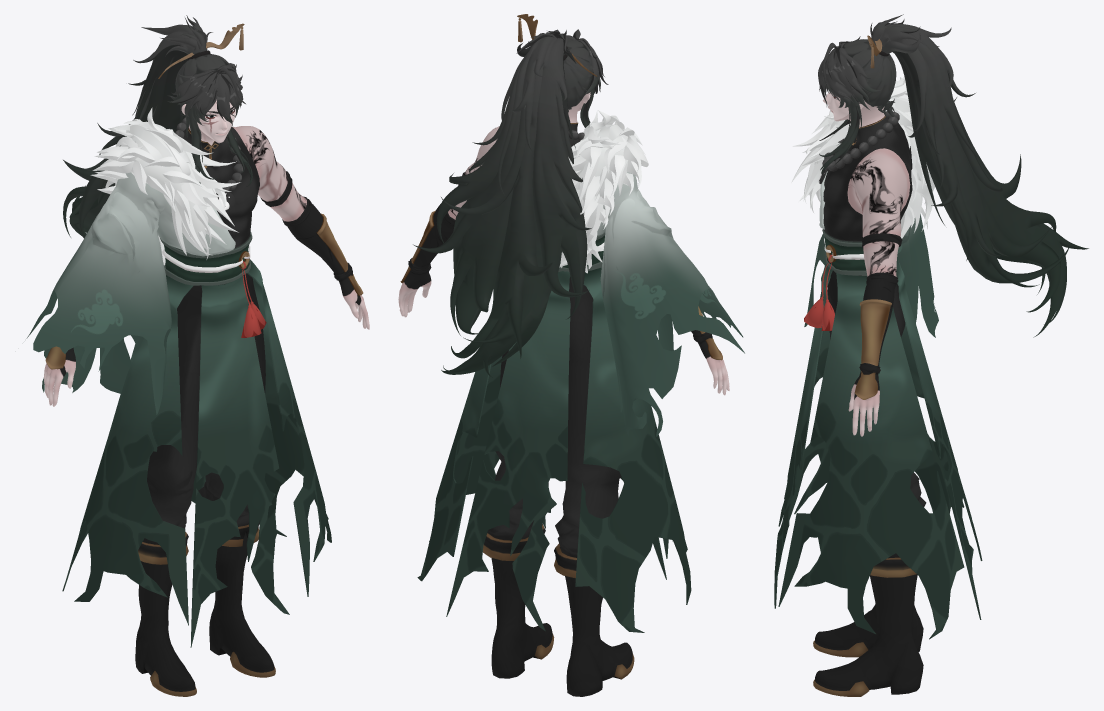
The model's file is valkyrie.glb.
3 renders of one model, left to right at view 1: azimuth 30°, elevation 25°; view 2: azimuth 150°, elevation 25°; view 3: azimuth 270°, elevation 25°, orthographic.
Parts seen in each view (by area): view 1: body.001, R2T1KakaluoMd10011.mo.010, R2T1KakaluoMd10011.mo.011, R2T1KakaluoMd10011.mo.008, Sphere, Qiuyuan_mesh_high, Circle.002, Circle.003, Circle.001; view 2: Sphere, R2T1KakaluoMd10011.mo.010, body.001, R2T1KakaluoMd10011.mo.009, R2T1KakaluoMd10011.mo.011, Qiuyuan_mesh_high; view 3: R2T1KakaluoMd10011.mo.010, body.001, Sphere, Qiuyuan_mesh_high, R2T1KakaluoMd10011.mo.009, R2T1KakaluoMd10011.mo.011, R2T1KakaluoMd10011.mo.008, Circle.003, Circle.002.
Part boxes in pixels (x1,y1,x2,y2): body.001: (43,99,369,696); R2T1KakaluoMd10011.mo.010: (62,260,331,625); R2T1KakaluoMd10011.mo.011: (26,172,235,414); R2T1KakaluoMd10011.mo.008: (190,276,289,647); Sphere: (63,15,252,238); Qiuyuan_mesh_high: (90,107,240,265); Circle.002: (241,261,266,337); Circle.003: (175,117,242,210); Circle.001: (162,245,250,272); Sphere: (413,14,608,377); R2T1KakaluoMd10011.mo.010: (417,267,691,632); body.001: (398,92,729,696); R2T1KakaluoMd10011.mo.009: (446,271,570,631); R2T1KakaluoMd10011.mo.011: (597,172,744,436); Qiuyuan_mesh_high: (559,110,648,273); R2T1KakaluoMd10011.mo.010: (778,273,964,639); body.001: (813,92,926,696); Sphere: (818,14,1088,337); Qiuyuan_mesh_high: (791,77,934,238); R2T1KakaluoMd10011.mo.009: (896,258,982,619); R2T1KakaluoMd10011.mo.011: (804,171,938,337); R2T1KakaluoMd10011.mo.008: (774,260,832,608); Circle.003: (818,111,899,183); Circle.002: (804,254,834,330).
Size of the model in its own units: 0.9794 by 1.74 by 0.7619.
Materials: 9 (9 with a texture image).
